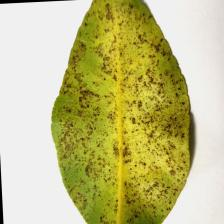canker: (75, 54, 174, 180)
